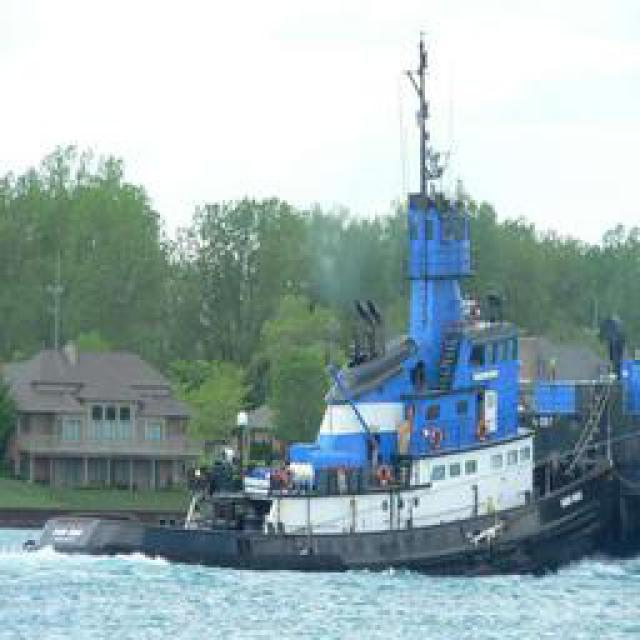Ship: (155, 231, 619, 576)
